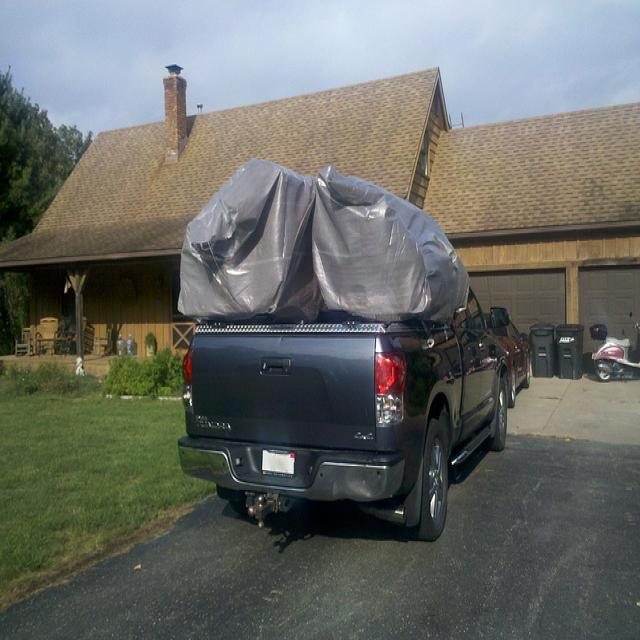motor: (589, 320, 640, 385)
